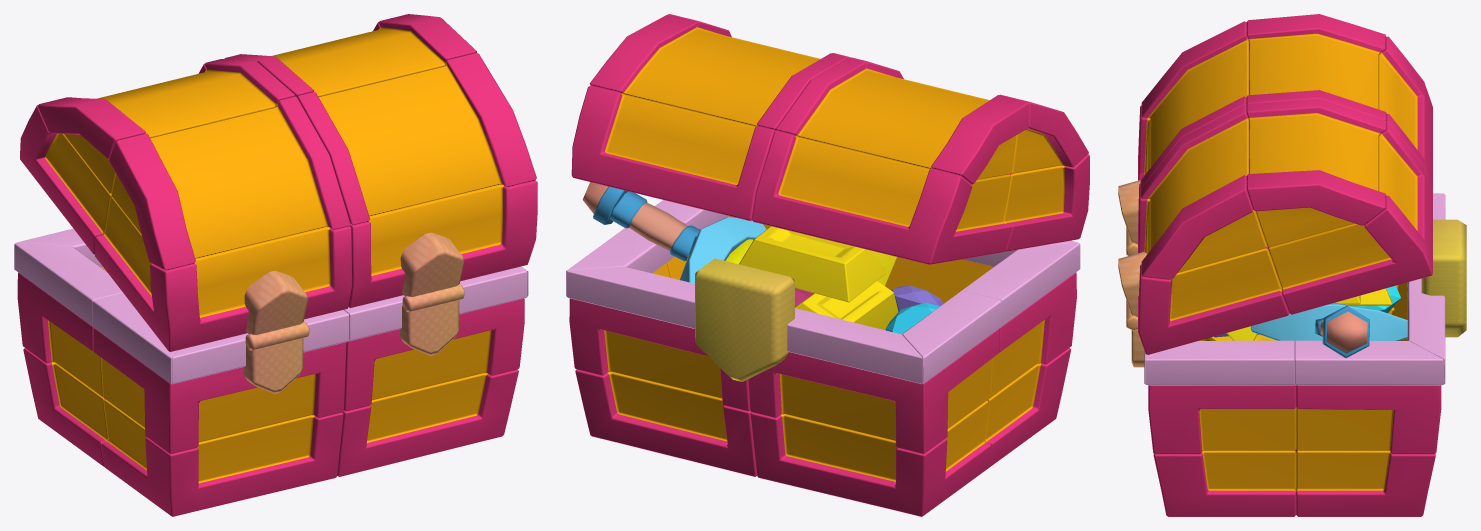
3 views of the same model, side by side, from view 1: azimuth 30°, elevation 25°; view 2: azimuth 150°, elevation 25°; view 3: azimuth 270°, elevation 25° (orthographic). The views are drawn at different scales.
Parts seen in each view (by area): view 1: Cube_L1_2, Cube_L1_6, Cube_L1_3, Cube_L4_7, Cube_L4_3, Cube_L1_7, Cube_L1, Cube_L4_6, Cube_L4_2, Cube_L1_4, Cube_L1_1, Cube_L4 (+10 smaller); view 2: Cube_L1_1, Cube_L1, Cube_L1_5, Cube_L4_4, Cube_L1_4, Cube_L4, Cube_L4_5, Cube_L4_1, Cube_L2, Cube_L4_3, Cube_L3, Cube_L1_3 (+13 smaller); view 3: Cube_L1_4, Cube_L1_5, Cube_L1_6, Cube_L1, Cube_L1_7, Cube_L4_2, Cube_L4_1, Cube_L4_6, Cube_L4_5, Cube_L1_2, Cube_L2_2, Cube_L2_3 (+11 smaller).
Part boxes in pixels (<box>): Cube_L1_2: <box>109,96,350,270</box>; Cube_L1_6: <box>297,53,536,225</box>; Cube_L1_3: <box>95,197,352,351</box>; Cube_L4_7: <box>101,399,343,516</box>; Cube_L4_3: <box>93,328,346,454</box>; Cube_L1_7: <box>348,180,537,307</box>; Cube_L1: <box>38,59,295,193</box>; Cube_L4_6: <box>337,369,518,476</box>; Cube_L4_2: <box>344,298,524,411</box>; Cube_L1_4: <box>225,14,476,97</box>; Cube_L1_1: <box>20,63,206,254</box>; Cube_L4: <box>17,266,106,397</box>; Cube_L1_1: <box>752,130,1012,264</box>; Cube_L1: <box>776,57,1029,184</box>; Cube_L1_5: <box>571,85,775,220</box>; Cube_L4_4: <box>750,400,991,516</box>; Cube_L1_4: <box>589,14,846,130</box>; Cube_L4: <box>748,329,999,453</box>; Cube_L4_5: <box>575,369,756,476</box>; Cube_L4_1: <box>569,263,749,411</box>; Cube_L2: <box>695,258,794,381</box>; Cube_L4_3: <box>885,257,1076,398</box>; Cube_L3: <box>739,226,886,302</box>; Cube_L1_3: <box>1003,154,1089,251</box>; Cube_L1_4: <box>1246,99,1386,247</box>; Cube_L1_5: <box>1268,123,1432,314</box>; Cube_L1_6: <box>1140,105,1266,279</box>; Cube_L1: <box>1246,14,1386,120</box>; Cube_L1_7: <box>1138,192,1288,354</box>; Cube_L4_2: <box>1148,384,1296,454</box>; Cube_L4_1: <box>1296,338,1441,454</box>; Cube_L4_6: <box>1153,449,1296,516</box>; Cube_L4_5: <box>1296,449,1435,516</box>; Cube_L1_2: <box>1140,21,1248,188</box>; Cube_L2_2: <box>1145,340,1294,385</box>; Cube_L2_3: <box>1294,340,1443,385</box>.
Bounding box in the file's own units: 4.5 × 3.9 × 3.59.
